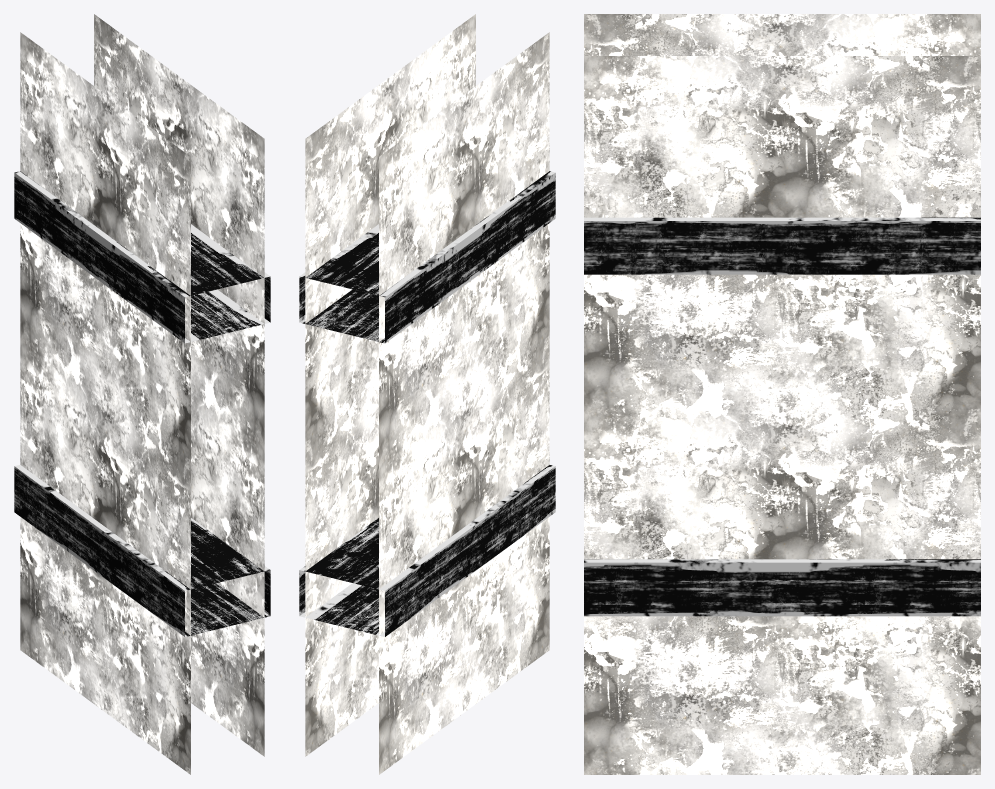
Rendered from SM_wall_A_2x4_01_03.fbx.
3 views of the same model, side by side, from view 1: azimuth 30°, elevation 25°; view 2: azimuth 150°, elevation 25°; view 3: azimuth 270°, elevation 25° (orthographic). The views are drawn at different scales.
Visible parts, largest first — view 1: SM_wall_A_2x4_01_03_LOD0; view 2: SM_wall_A_2x4_01_03_LOD0; view 3: SM_wall_A_2x4_01_03_LOD0.
Part boxes in pixels (bbox=[...]): SM_wall_A_2x4_01_03_LOD0: bbox=[14, 14, 270, 774]; SM_wall_A_2x4_01_03_LOD0: bbox=[299, 14, 555, 774]; SM_wall_A_2x4_01_03_LOD0: bbox=[584, 14, 980, 774].
Size of the model in its own units: 58 by 200 by 400.
Materials: 3 (3 with a texture image).
